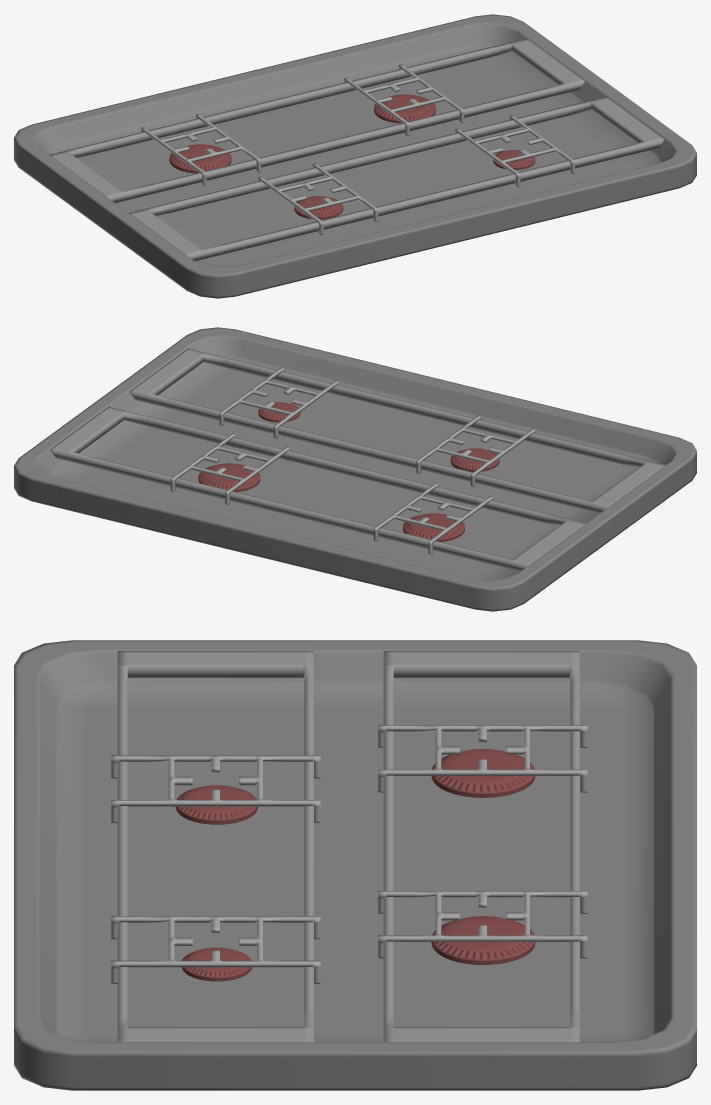
Rendered from Stove.fbx.
3 views of the same model, one above another, from view 1: azimuth 30°, elevation 25°; view 2: azimuth 150°, elevation 25°; view 3: azimuth 270°, elevation 25° (orthographic). The views are drawn at different scales.
Parts seen in each view (by area): view 1: pCylinder5; view 2: pCylinder5; view 3: pCylinder5.
Part boxes in pixels (x1,y1,x2,y2): pCylinder5: (14, 14, 696, 298); pCylinder5: (14, 327, 696, 611); pCylinder5: (14, 640, 696, 1090).
Bounding box in the file's own units: 150 × 6.97 × 105.
